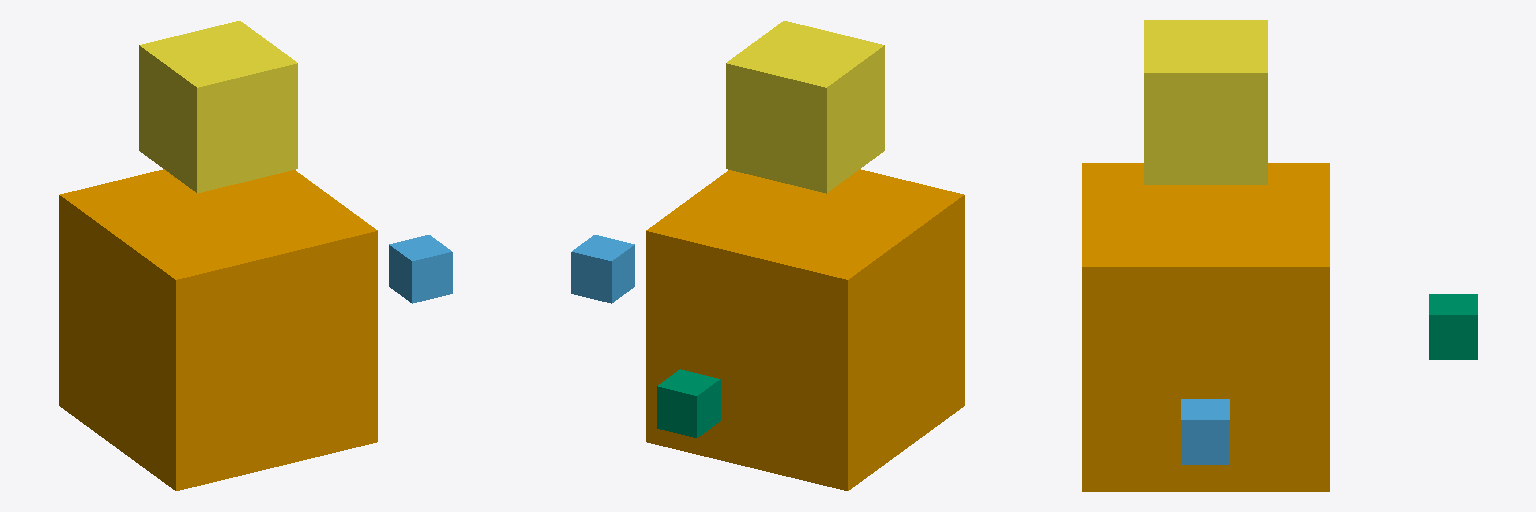
robot.urdf — visual_only_fixed:
<?xml version="1.0"?>
<robot name="visual_only_fixed">
  <link name="base">
    <inertial>
      <mass value="1"/>
      <inertia ixx="0.01" iyy="0.01" izz="0.01" ixy="0" ixz="0" iyz="0"/>
    </inertial>
    <visual>
      <geometry>
        <box size="0.1 0.1 0.1"/>
      </geometry>
    </visual>
  </link>
  <link name="drawn">
    <visual>
      <geometry>
        <box size="0.02 0.02 0.02"/>
      </geometry>
    </visual>
  </link>
  <link name="zero">
    <inertial>
      <mass value="0"/>
      <inertia ixx="0" iyy="0" izz="0" ixy="0" ixz="0" iyz="0"/>
    </inertial>
    <visual>
      <geometry>
        <box size="0.02 0.02 0.02"/>
      </geometry>
    </visual>
  </link>
  <link name="solid">
    <visual>
      <geometry>
        <box size="0.05 0.05 0.05"/>
      </geometry>
    </visual>
    <collision>
      <geometry>
        <box size="0.05 0.05 0.05"/>
      </geometry>
    </collision>
  </link>
  <link name="bare"/>

  <joint name="drawn_joint" type="fixed">
    <origin xyz="0.1 0 0"/>
    <parent link="base"/>
    <child link="drawn"/>
  </joint>
  <joint name="zero_joint" type="fixed">
    <origin xyz="0 0.1 0"/>
    <parent link="base"/>
    <child link="zero"/>
  </joint>
  <joint name="solid_joint" type="fixed">
    <origin xyz="0 0 0.1"/>
    <parent link="base"/>
    <child link="solid"/>
  </joint>
  <joint name="bare_joint" type="fixed">
    <origin xyz="-0.1 0 0"/>
    <parent link="base"/>
    <child link="bare"/>
  </joint>
</robot>

--- Facts derived from the render (not from the file) ---
Views: 3 orthographic renders of the robot side by side, from view 1: azimuth 30°, elevation 25°; view 2: azimuth 150°, elevation 25°; view 3: azimuth 270°, elevation 25°.
Model visual_only_fixed with 5 links and 4 joints (4 fixed), rooted at base, posed all joints at 0.
Visible links, largest first — view 1: base, solid, drawn; view 2: base, solid, drawn, zero; view 3: base, solid, drawn, zero.
Boxes of the visible links, box(x1,y1,x2,y2) form: base: box(59, 169, 377, 490); solid: box(139, 21, 297, 193); drawn: box(389, 235, 452, 303); base: box(646, 169, 964, 490); solid: box(726, 21, 884, 193); drawn: box(571, 235, 634, 303); zero: box(657, 369, 720, 437); base: box(1082, 163, 1329, 491); solid: box(1144, 20, 1267, 184); drawn: box(1181, 399, 1229, 464); zero: box(1429, 294, 1477, 359).
Bounding box of the posed robot: 0.16 × 0.16 × 0.175 m (x, y, z).
Geometry: primitives only (box / cylinder / sphere), no mesh files.
